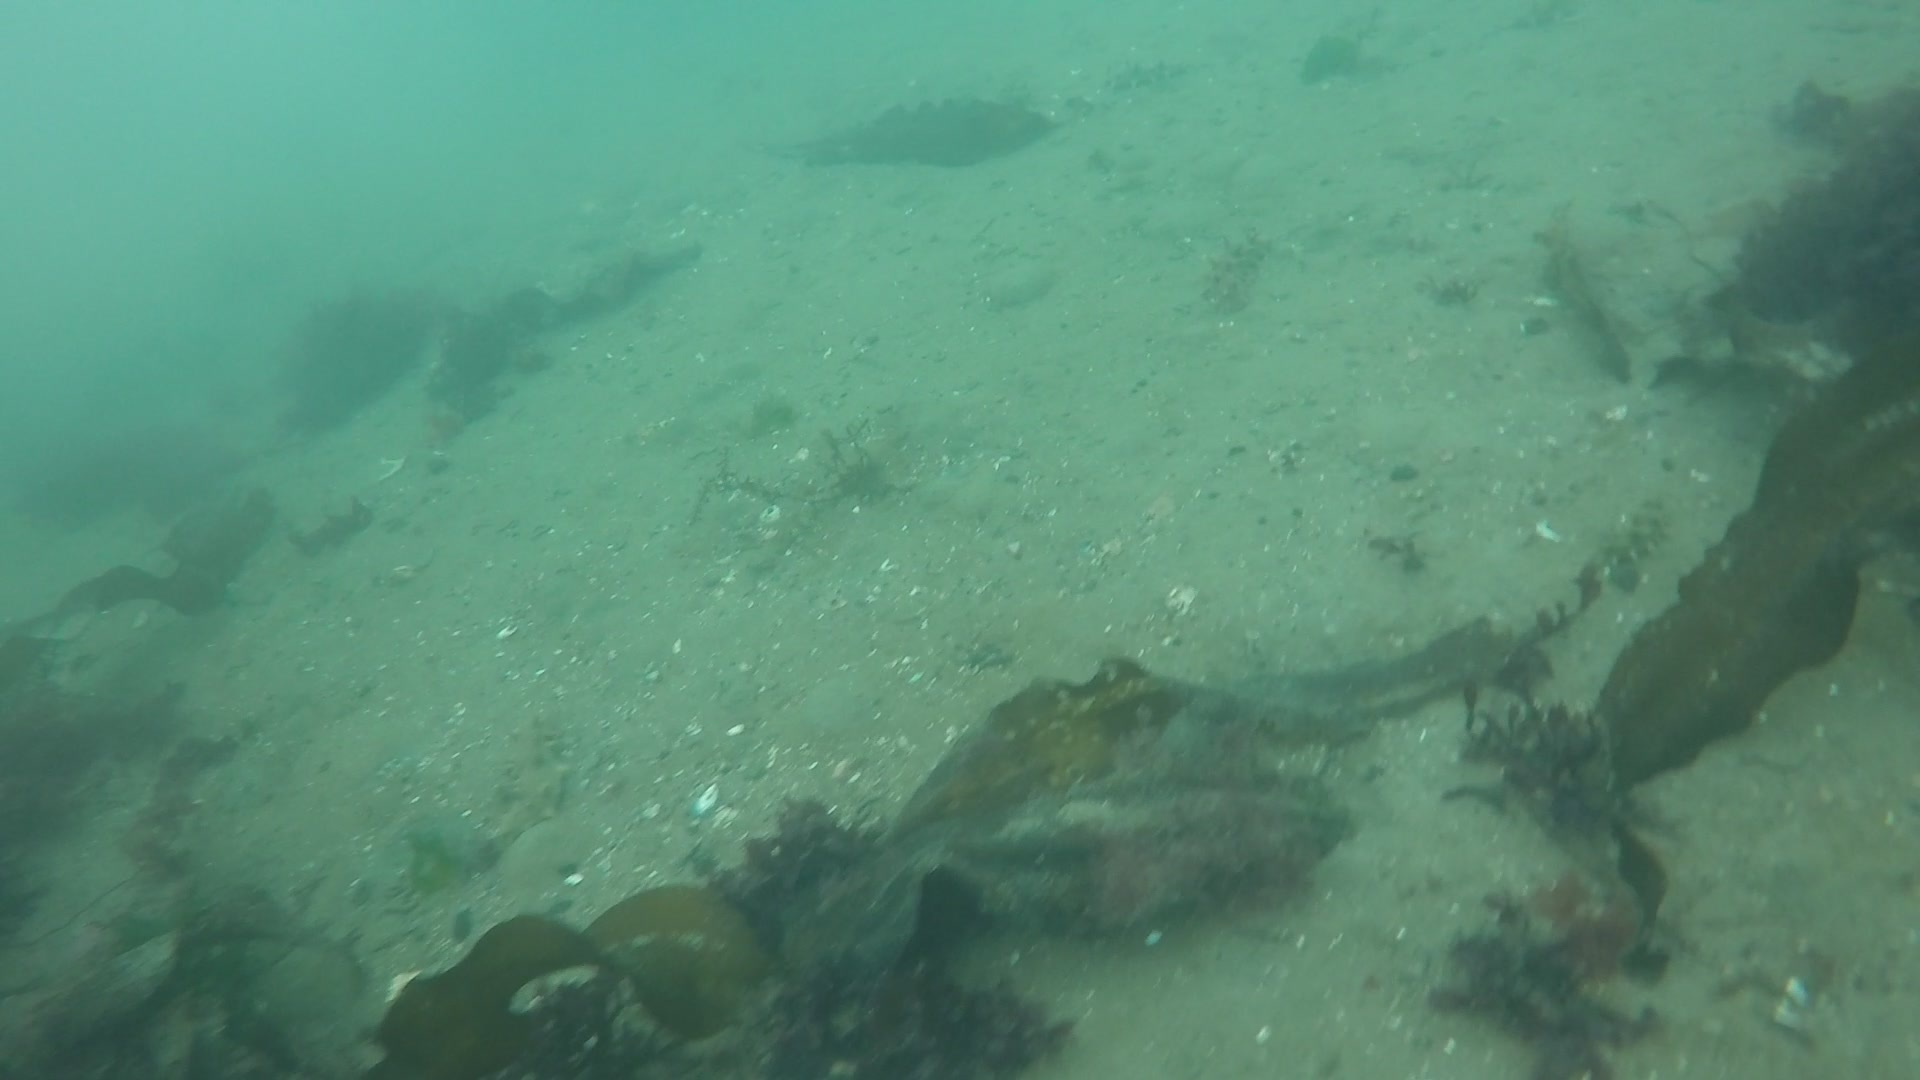holothurian: (477, 713, 578, 856), (1193, 225, 1276, 324), (1100, 50, 1197, 100)
